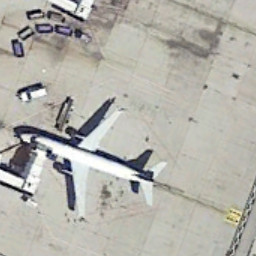Airplane: (15, 89, 203, 225)
